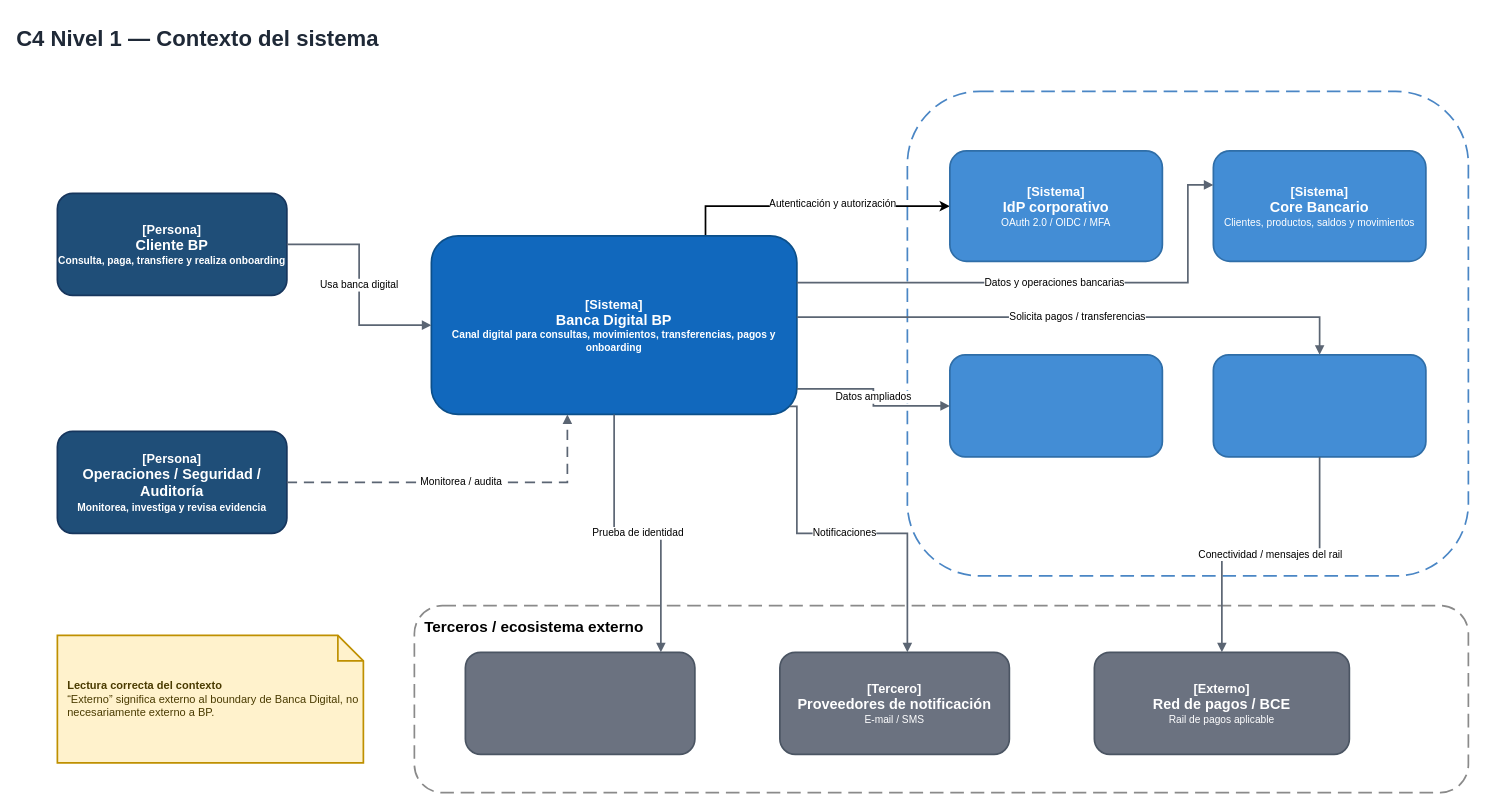
Image size: 1491x808. Some labels were removed from this diagram. Here are the shapes that lost their labels. From the top down, the box of each, then its label:
(906, 90, 1469, 576): Sistemas corporativos BP — externos al system boundary
(949, 354, 1163, 457): [Sistema] Customer Detail Información ampliada del cliente
(1212, 354, 1426, 457): [Sistema] Payment Hub Integración con rail interbancario
(464, 651, 695, 755): [Tercero] Proveedor KYC / biometría Documento, liveness y comparación facial
